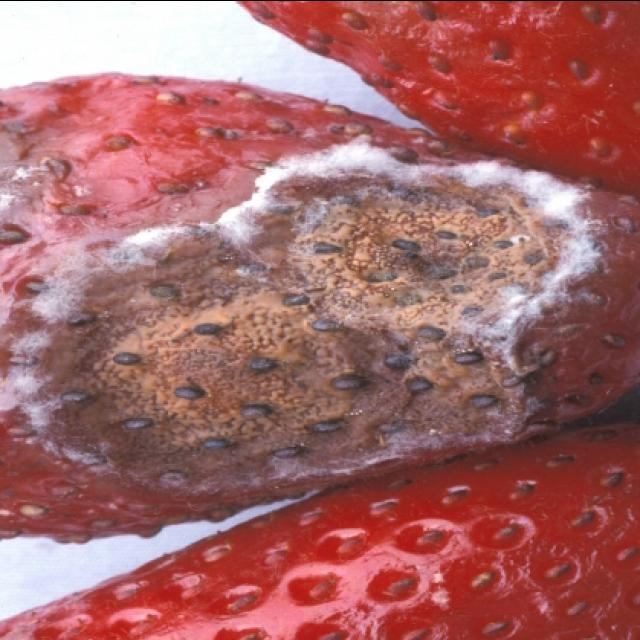Anthracnose Fruit Rot: (115, 266, 475, 474), (295, 175, 535, 314)
